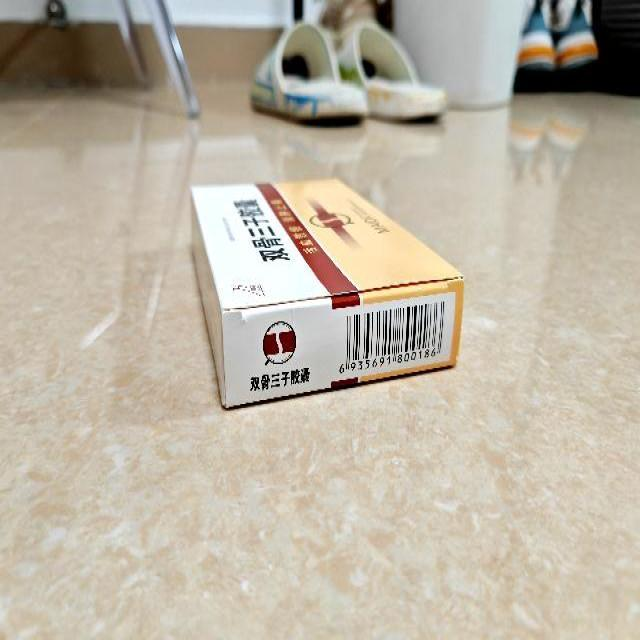box: (186, 178, 464, 412)
